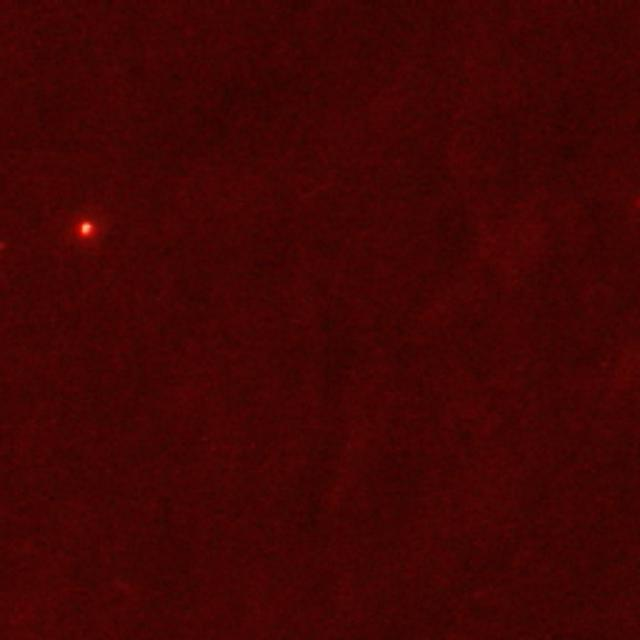Fragment: (80, 220, 92, 238)
